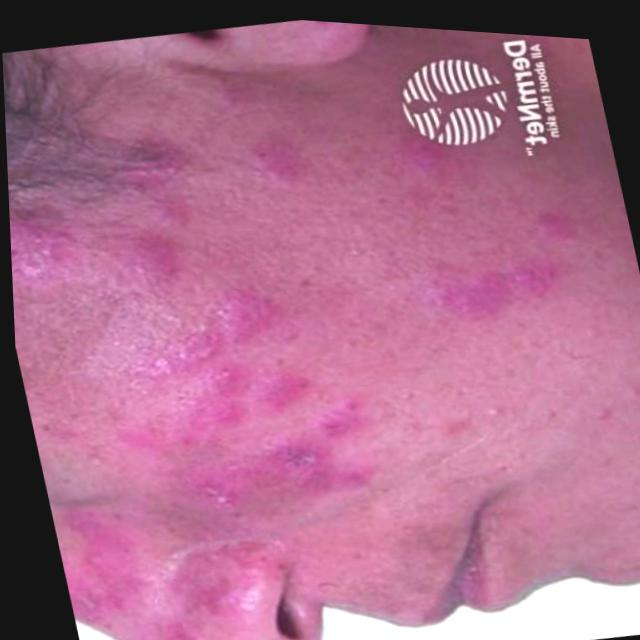lupus-detected: (3, 64, 637, 606), (46, 463, 302, 640)
